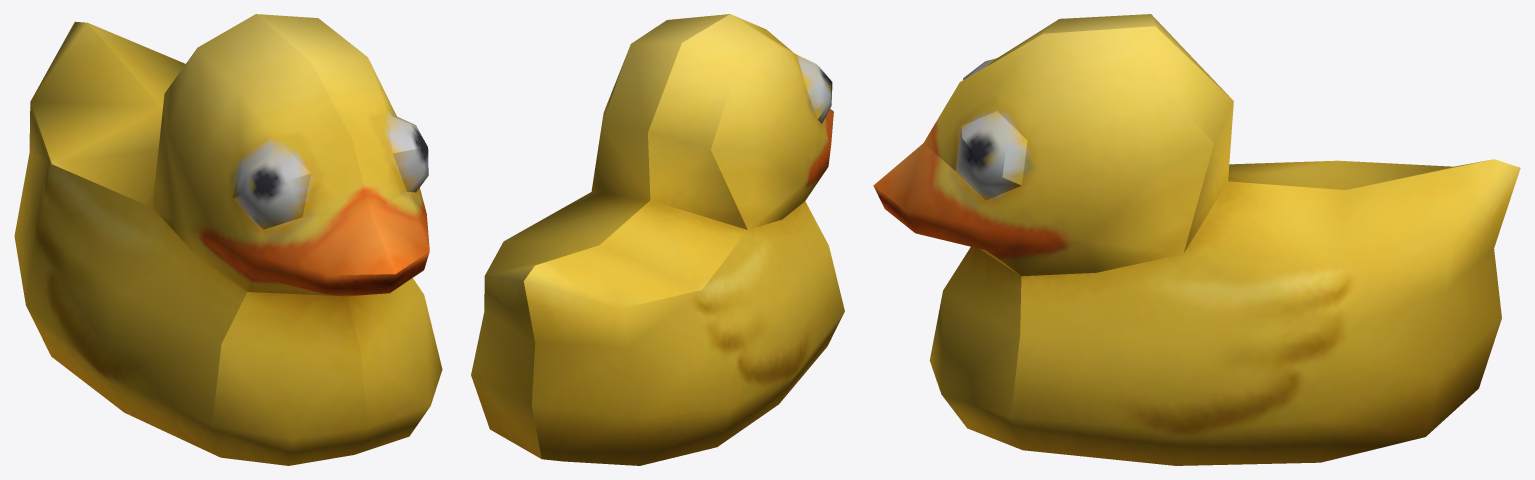
The model's file is Pato.fbx.
The picture shows the model from 3 angles, left to right: view 1: azimuth 30°, elevation 25°; view 2: azimuth 150°, elevation 25°; view 3: azimuth 270°, elevation 25°; orthographic projection. The views are drawn at different scales.
Parts seen in each view (by area): view 1: s4studio_mesh_0; view 2: s4studio_mesh_0; view 3: s4studio_mesh_0.
Boxes of the visible parts, left/top/right/bottom form: s4studio_mesh_0: left=14, top=14, right=442, bottom=465; s4studio_mesh_0: left=471, top=14, right=844, bottom=465; s4studio_mesh_0: left=873, top=14, right=1520, bottom=465.
Bounding box in the file's own units: 9.91 × 12.87 × 19.14.
Materials: 1 (1 with a texture image).
